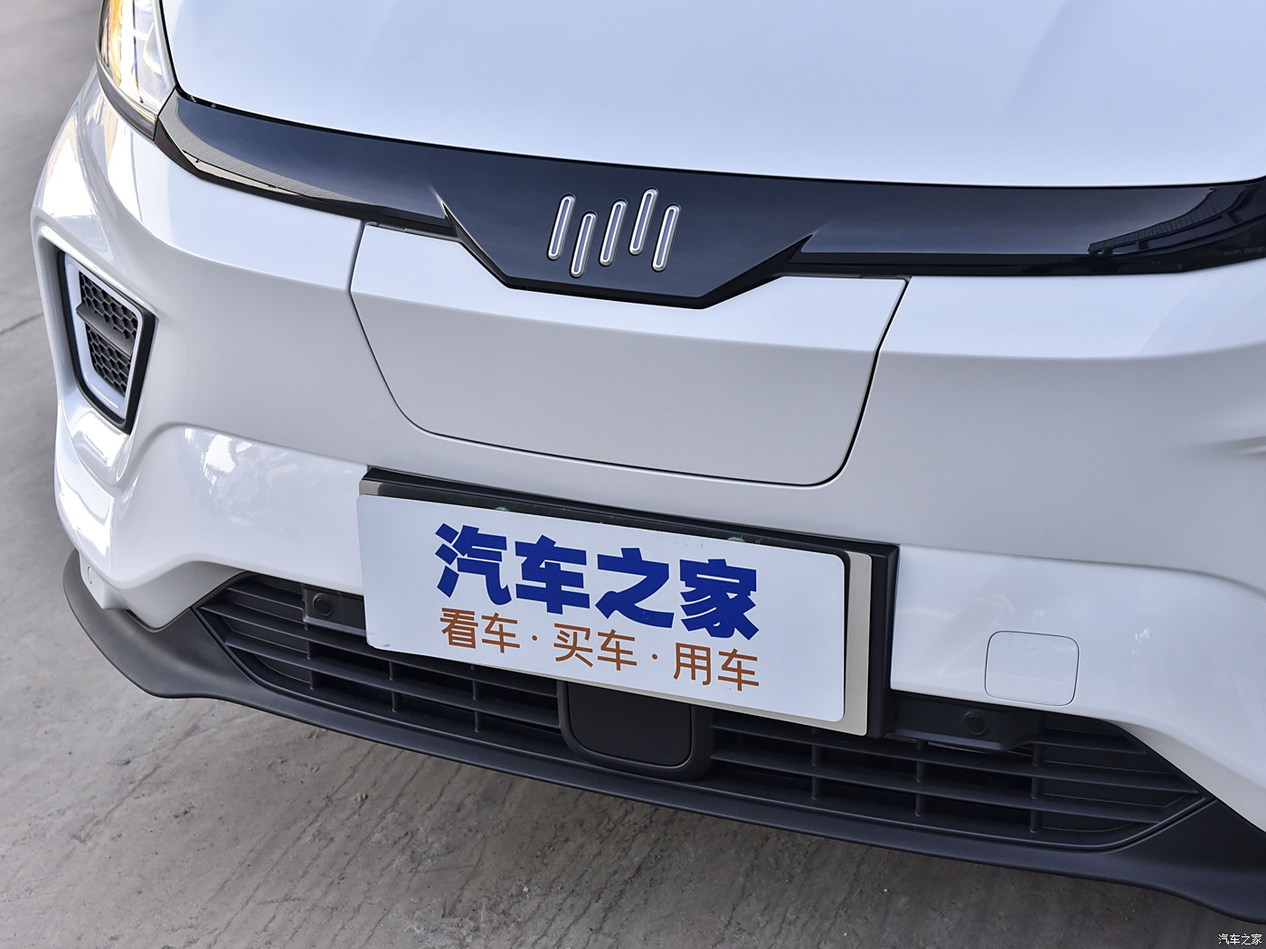WELTMEISTER: (549, 190, 679, 277)
